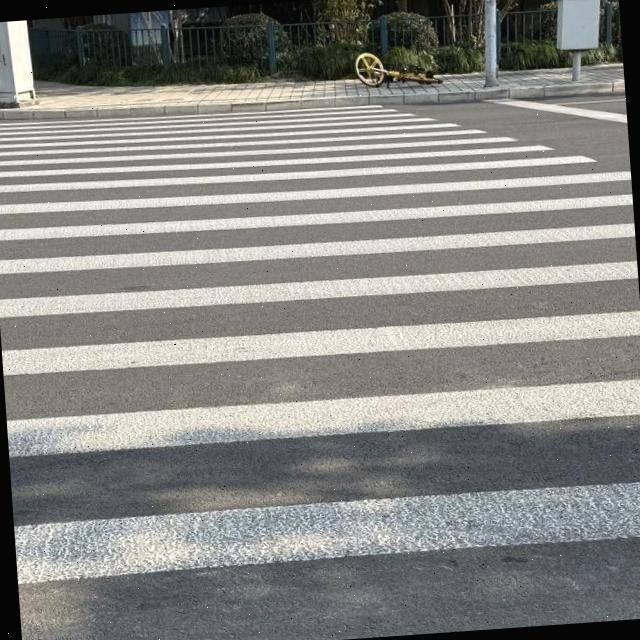curb: (0, 79, 624, 121)
